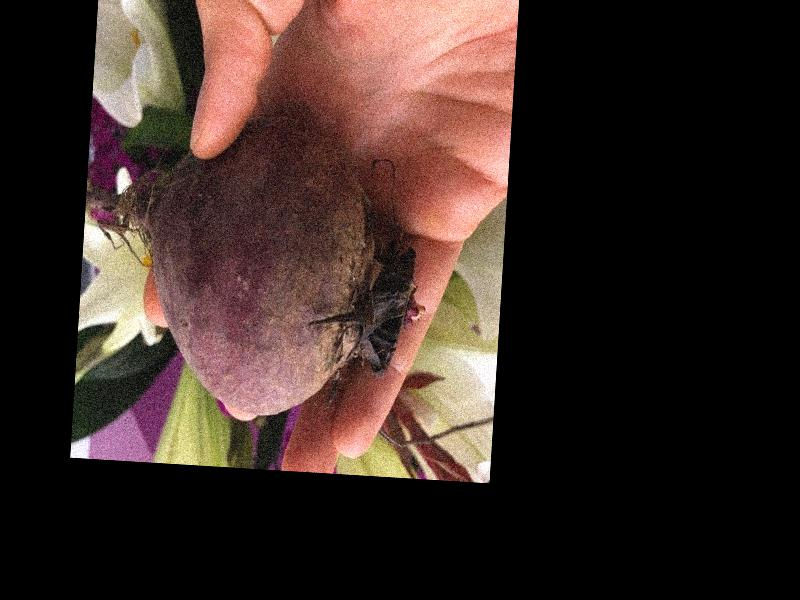Beet: (75, 106, 434, 426)
